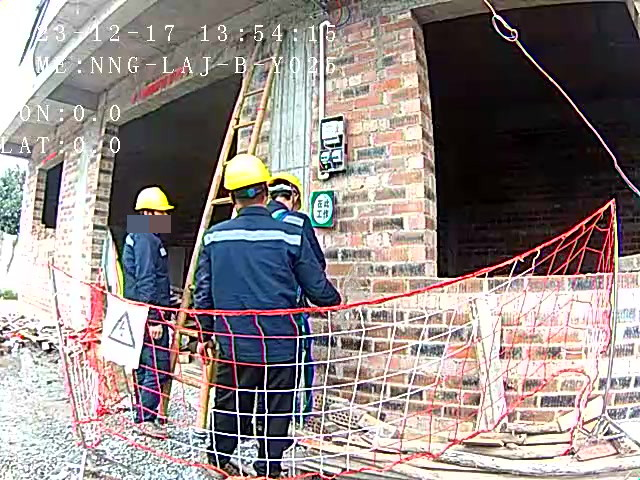downsuit: (208, 370, 301, 476), (130, 303, 169, 417)
halt: (224, 154, 273, 208), (133, 186, 174, 227), (268, 172, 304, 211)
hand: (198, 339, 214, 364), (149, 323, 165, 337)
inear: (140, 206, 159, 224), (287, 187, 301, 209)
person: (199, 154, 338, 477), (120, 184, 181, 424)
upsuit: (197, 209, 344, 354), (122, 224, 175, 300)
worksign: (310, 191, 333, 225)
